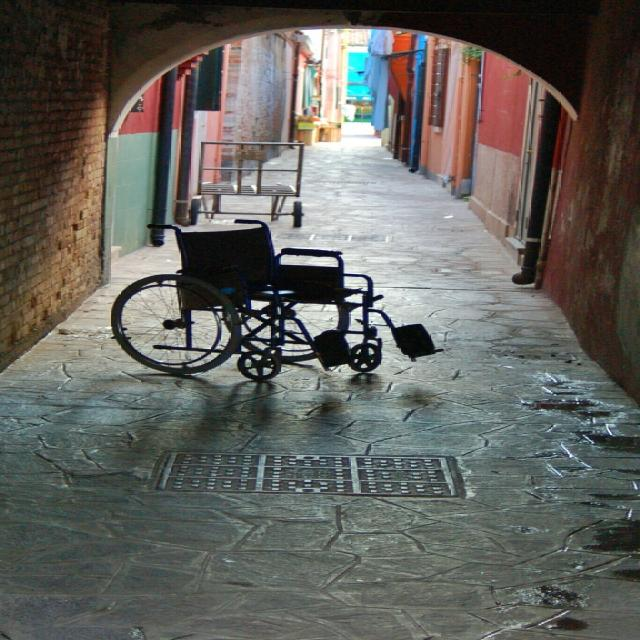wheelchairs: (118, 224, 444, 380)
